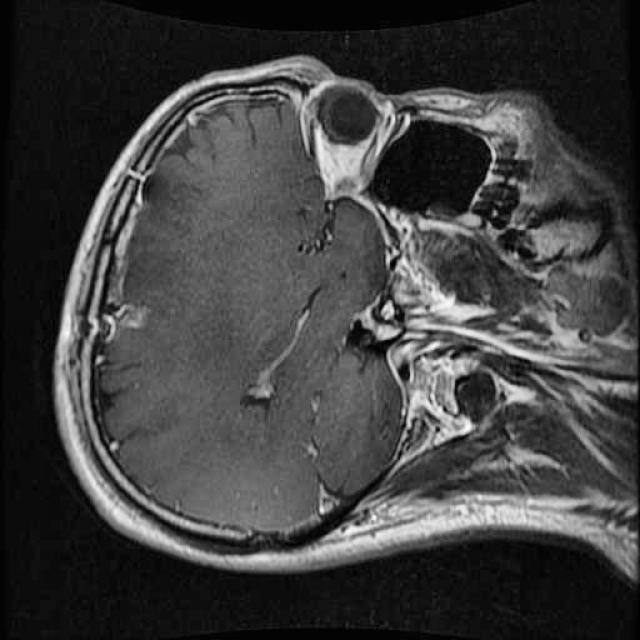Tumor: (97, 294, 164, 348)
